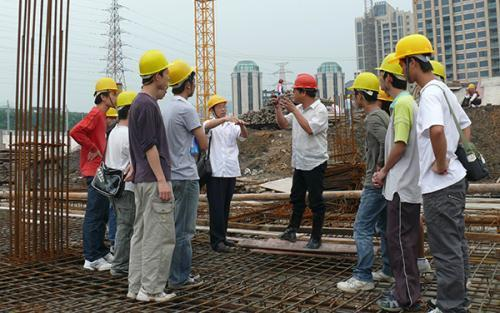safetyhat: (375, 38, 479, 299), (123, 42, 179, 287), (272, 66, 332, 250)
